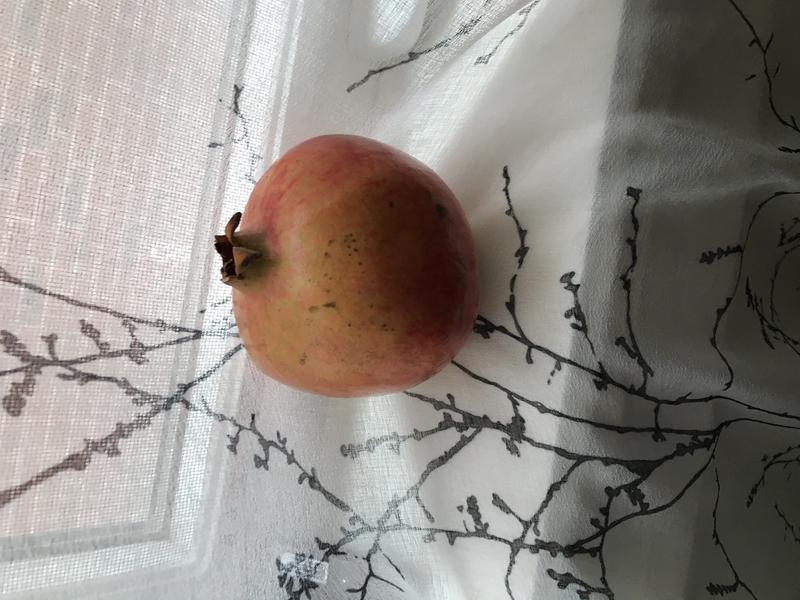pomegranate: (196, 116, 498, 413)
